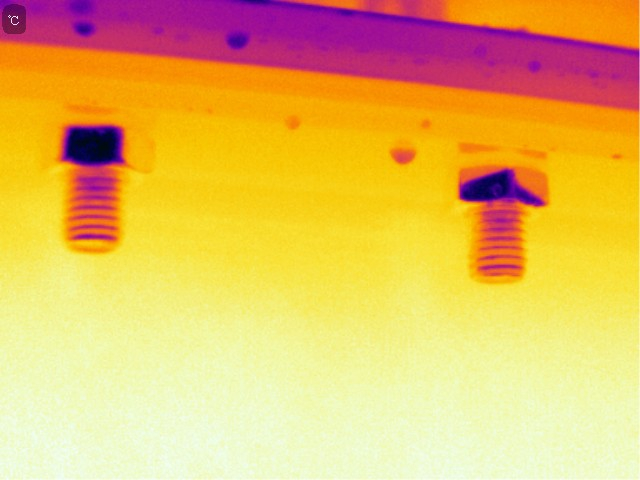Water: (385, 136, 426, 169), (224, 26, 258, 58), (71, 17, 105, 40), (278, 110, 307, 134), (414, 111, 440, 133)
